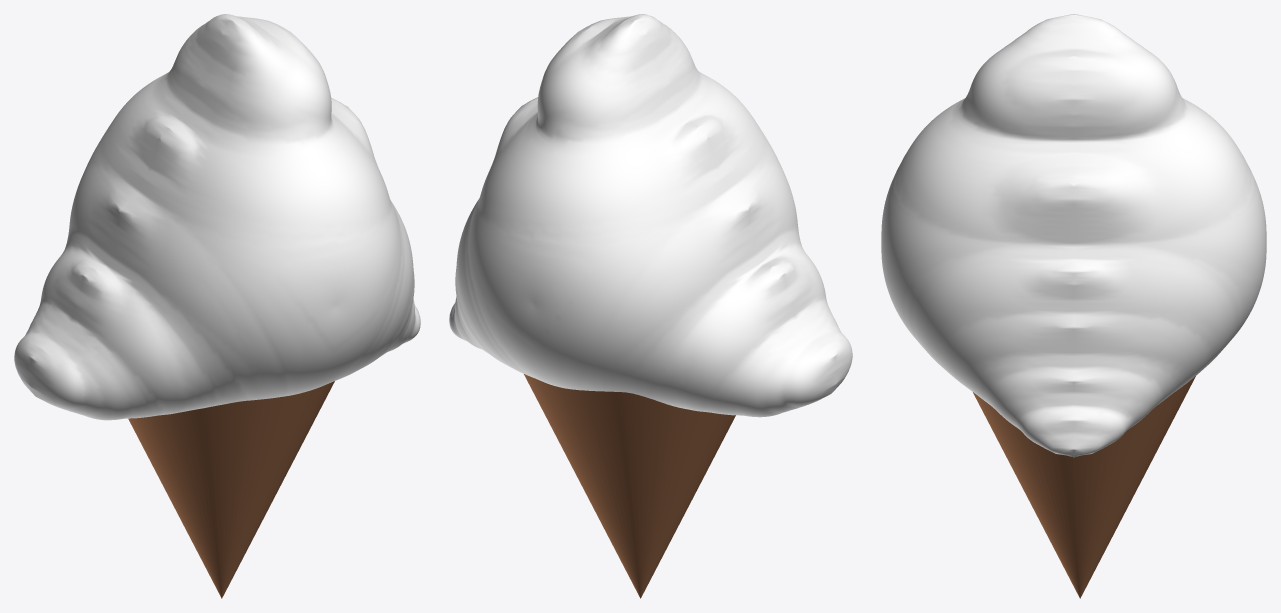
Rendered from IceCreamTest.fbx.
The picture shows the model from 3 angles, left to right: view 1: azimuth 30°, elevation 25°; view 2: azimuth 150°, elevation 25°; view 3: azimuth 270°, elevation 25°; orthographic projection. The views are drawn at different scales.
Parts seen in each view (by area): view 1: root (×2); view 2: root (×2); view 3: root (×2).
Boxes of the visible parts, x1=… form: root (×2): x1=14, y1=14, x2=420, y2=598; root (×2): x1=449, y1=14, x2=852, y2=598; root (×2): x1=881, y1=14, x2=1266, y2=598.
Bounding box in the file's own units: 0.2767 × 0.4013 × 0.2379.
Materials: 2 (2 with a texture image).
